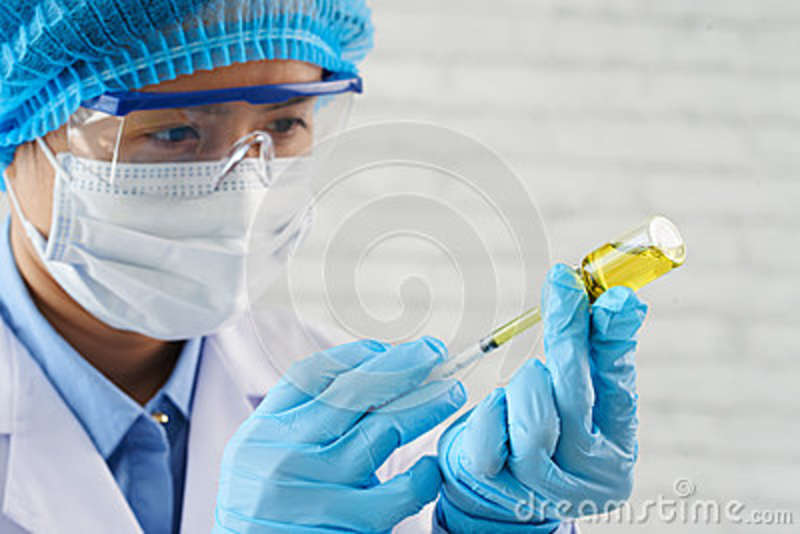mask: (48, 161, 321, 350)
